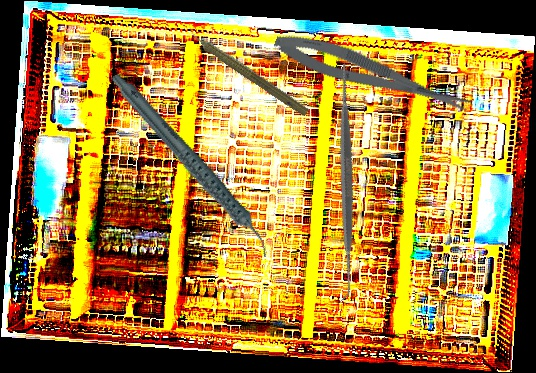Handpiece: (108, 49, 273, 283), (181, 22, 313, 119)
Micro Scissor: (270, 23, 474, 126)
Spatula Surgical: (223, 56, 469, 303)
